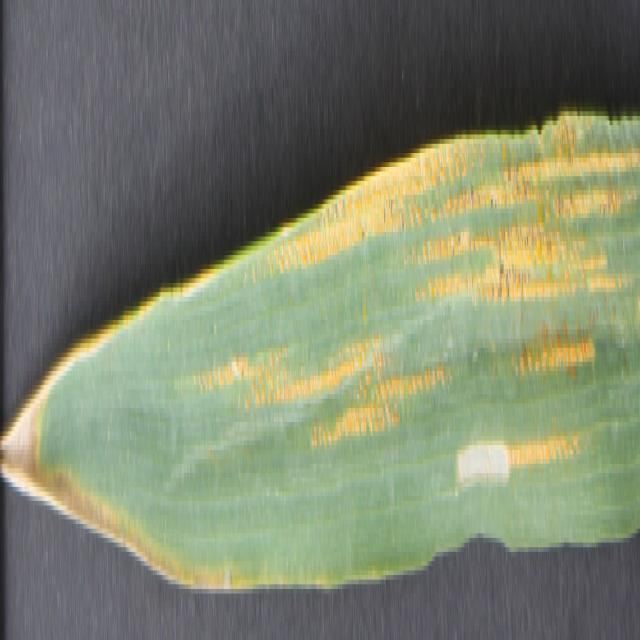leaf rust: (214, 74, 639, 436)
